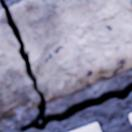brick: (72, 122, 100, 131), (129, 113, 131, 123)
broken_brick: (10, 0, 131, 101), (0, 9, 39, 119)
crack: (0, 0, 131, 130), (16, 102, 21, 106)
